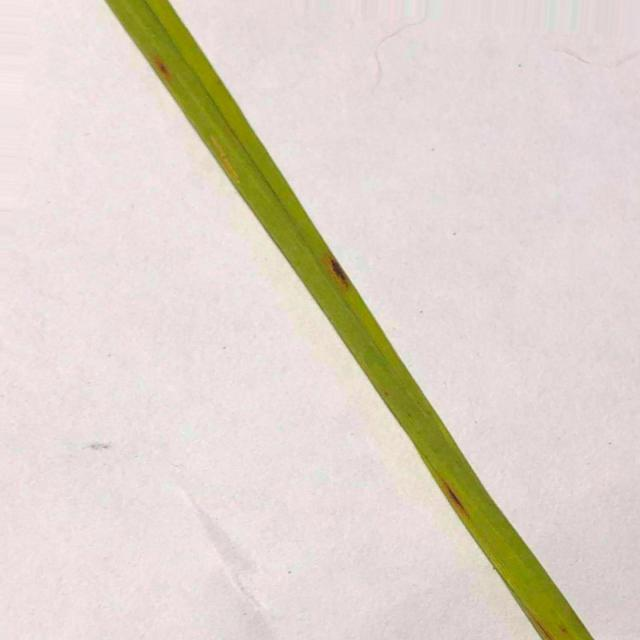Brown_Spot: (436, 478, 466, 519), (329, 255, 355, 290), (152, 55, 171, 79)
